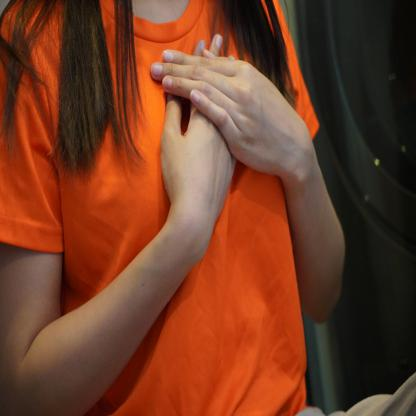Grieve: (137, 33, 320, 261)
